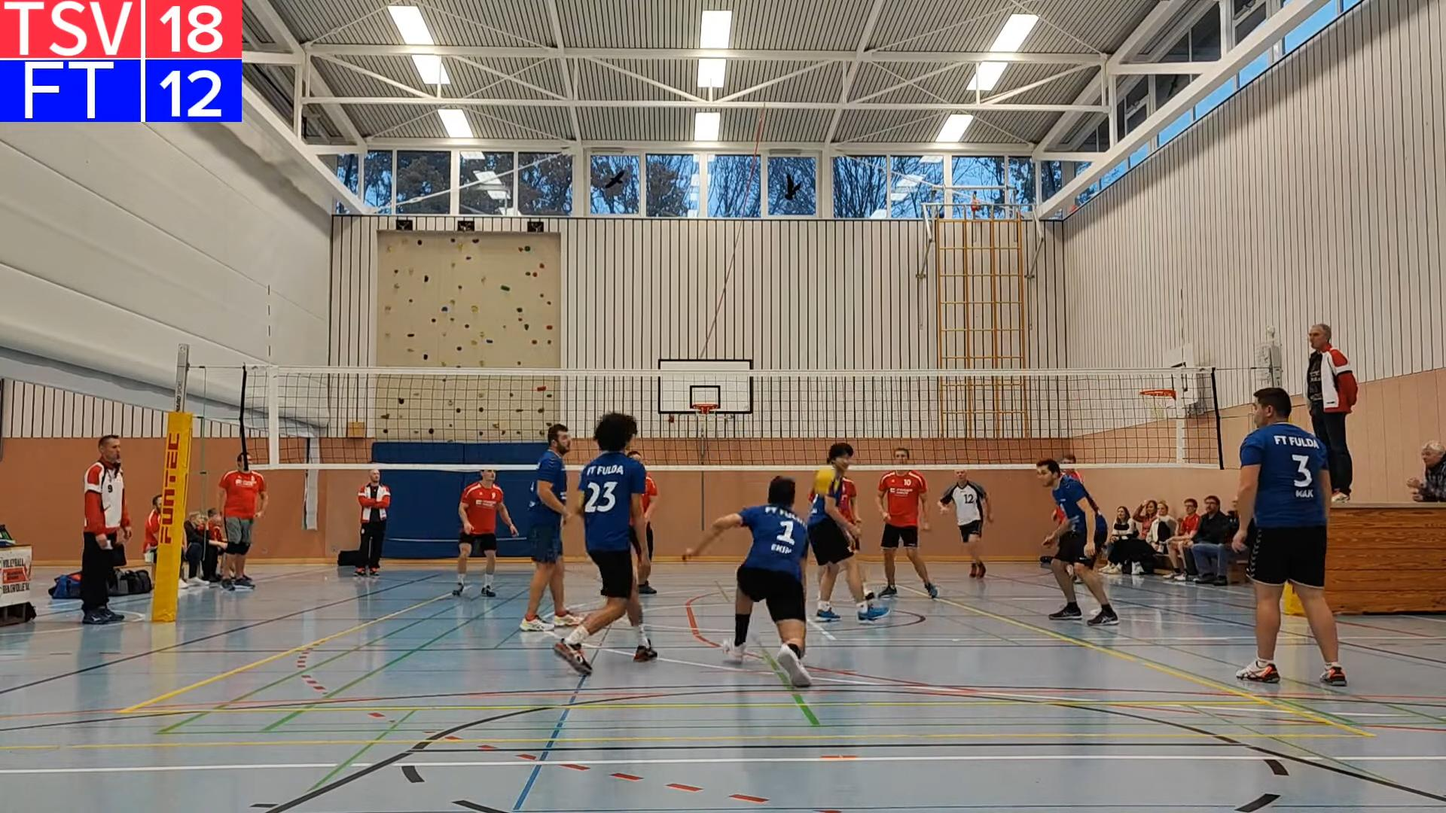difesa: (681, 471, 816, 686)
